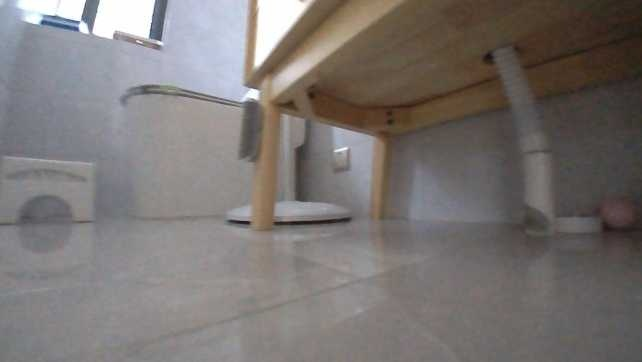chair_base: (225, 173, 354, 225)
plastic_stool: (1, 152, 97, 225)
toilet: (119, 83, 310, 221)
